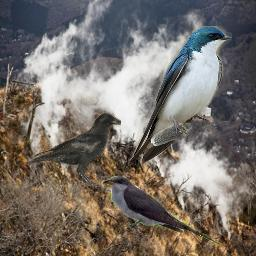Crow: (25, 112, 121, 187)
Cuckoo: (101, 176, 219, 247)
Swallow: (128, 26, 232, 166)
